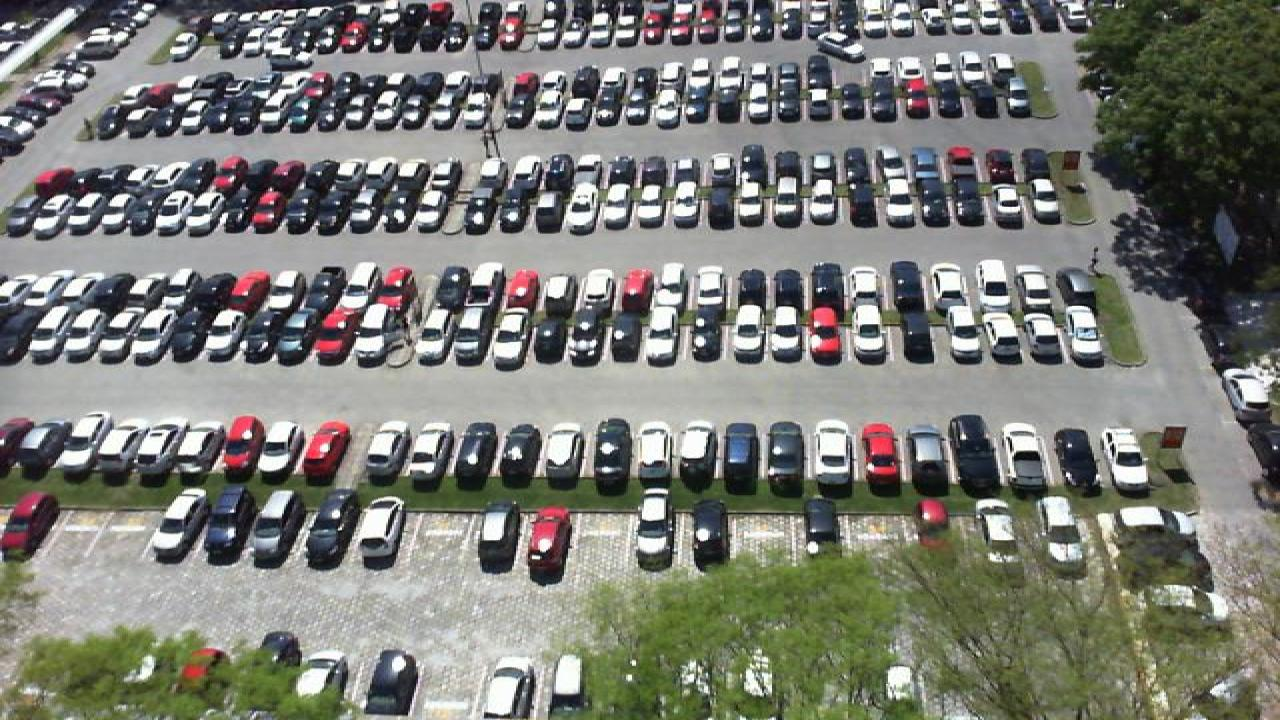Car: (150, 488, 208, 565), (0, 490, 60, 562), (302, 489, 356, 567), (206, 484, 256, 564), (950, 413, 998, 496), (360, 419, 414, 492), (252, 489, 302, 566), (476, 497, 524, 573), (1000, 420, 1048, 496), (356, 497, 408, 567), (58, 410, 108, 482), (542, 420, 592, 492), (526, 506, 572, 584), (904, 424, 952, 496), (812, 420, 858, 494), (974, 499, 1028, 562), (592, 416, 636, 493), (1054, 425, 1102, 495), (1106, 426, 1154, 496), (300, 421, 350, 488), (634, 487, 674, 569), (220, 415, 266, 486), (1038, 496, 1084, 564), (410, 421, 456, 489), (454, 422, 500, 490), (860, 421, 902, 495), (24, 417, 72, 481), (178, 420, 226, 484), (766, 419, 806, 495), (256, 422, 302, 487), (676, 422, 718, 493), (720, 420, 760, 494), (40, 305, 90, 363), (498, 421, 540, 489), (636, 422, 678, 490), (138, 422, 184, 484), (100, 420, 146, 481), (850, 302, 892, 368), (308, 306, 354, 366), (78, 305, 126, 362), (530, 305, 574, 367), (690, 499, 730, 567), (982, 302, 1024, 366), (940, 301, 980, 368), (118, 305, 164, 363), (156, 306, 202, 364), (418, 304, 462, 364), (1022, 304, 1064, 366), (610, 309, 654, 368), (802, 499, 844, 560), (492, 308, 534, 369), (270, 307, 314, 365), (570, 306, 612, 366), (808, 305, 848, 368), (458, 304, 498, 366), (1066, 304, 1106, 366), (194, 307, 238, 363), (232, 308, 276, 364), (348, 306, 390, 363), (652, 305, 690, 368), (768, 304, 806, 366), (694, 302, 730, 366), (898, 302, 934, 366), (0, 418, 36, 480), (1224, 367, 1270, 413), (732, 304, 766, 366)
